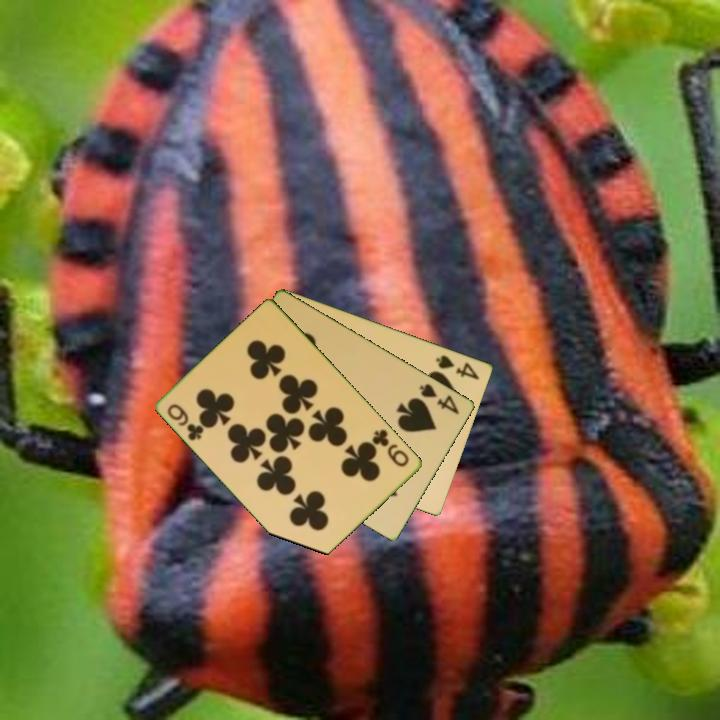4s: (416, 380, 462, 417), (433, 351, 483, 383)
9c: (369, 425, 412, 470), (164, 400, 207, 444)
